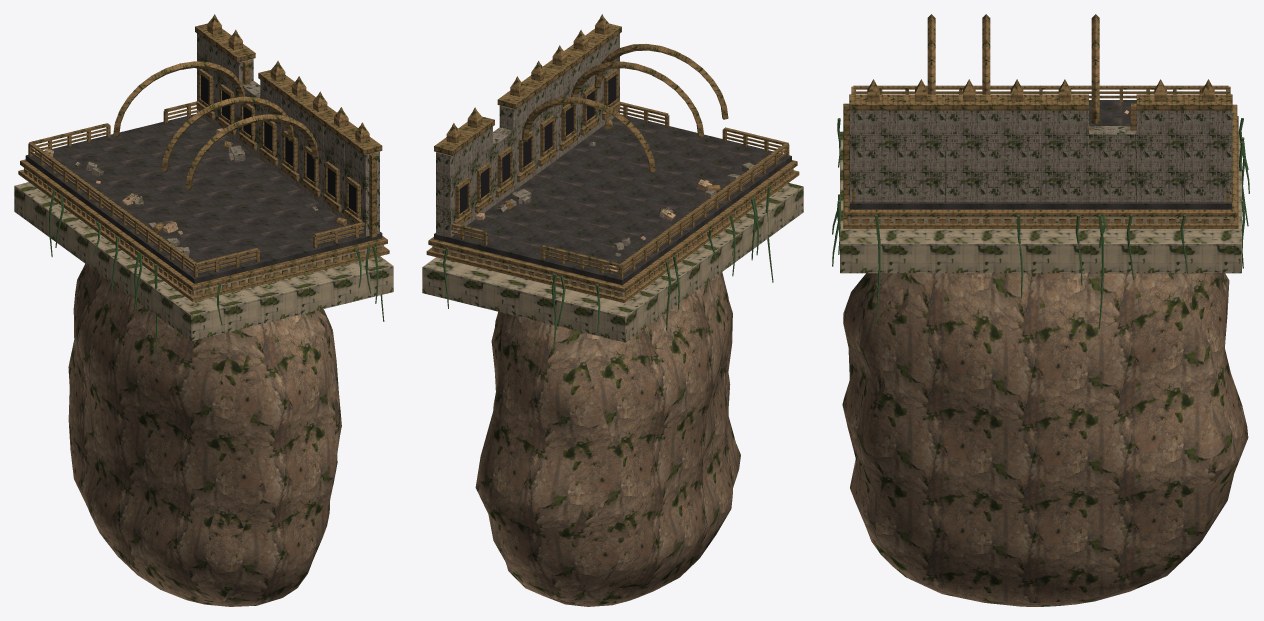
The model's file is Room_GalleryE.fbx.
3 renders of one model, left to right at view 1: azimuth 30°, elevation 25°; view 2: azimuth 150°, elevation 25°; view 3: azimuth 270°, elevation 25°, orthographic. The views are drawn at different scales.
Visible parts, largest first — view 1: GalleryE_Structure_LOD0, GalleryE_Rock_LOD0, GalleryE_Vault; view 2: GalleryE_Structure_LOD0, GalleryE_Rock_LOD0, GalleryE_Vault; view 3: GalleryE_Rock_LOD0, GalleryE_Structure_LOD0, GalleryE_Vault.
Part boxes in pixels (x1=…): GalleryE_Structure_LOD0: x1=14, y1=14, x2=393, y2=361; GalleryE_Rock_LOD0: x1=68, y1=264, x2=341, y2=606; GalleryE_Vault: x1=113, y1=61, x2=318, y2=189; GalleryE_Structure_LOD0: x1=422, y1=14, x2=803, y2=351; GalleryE_Rock_LOD0: x1=475, y1=272, x2=740, y2=606; GalleryE_Vault: x1=521, y1=44, x2=728, y2=172; GalleryE_Rock_LOD0: x1=842, y1=273, x2=1248, y2=606; GalleryE_Structure_LOD0: x1=832, y1=79, x2=1249, y2=329; GalleryE_Vault: x1=927, y1=14, x2=1099, y2=124.
Size of what is drawn, in the model's own units: 20.56 by 46.33 by 30.57.
